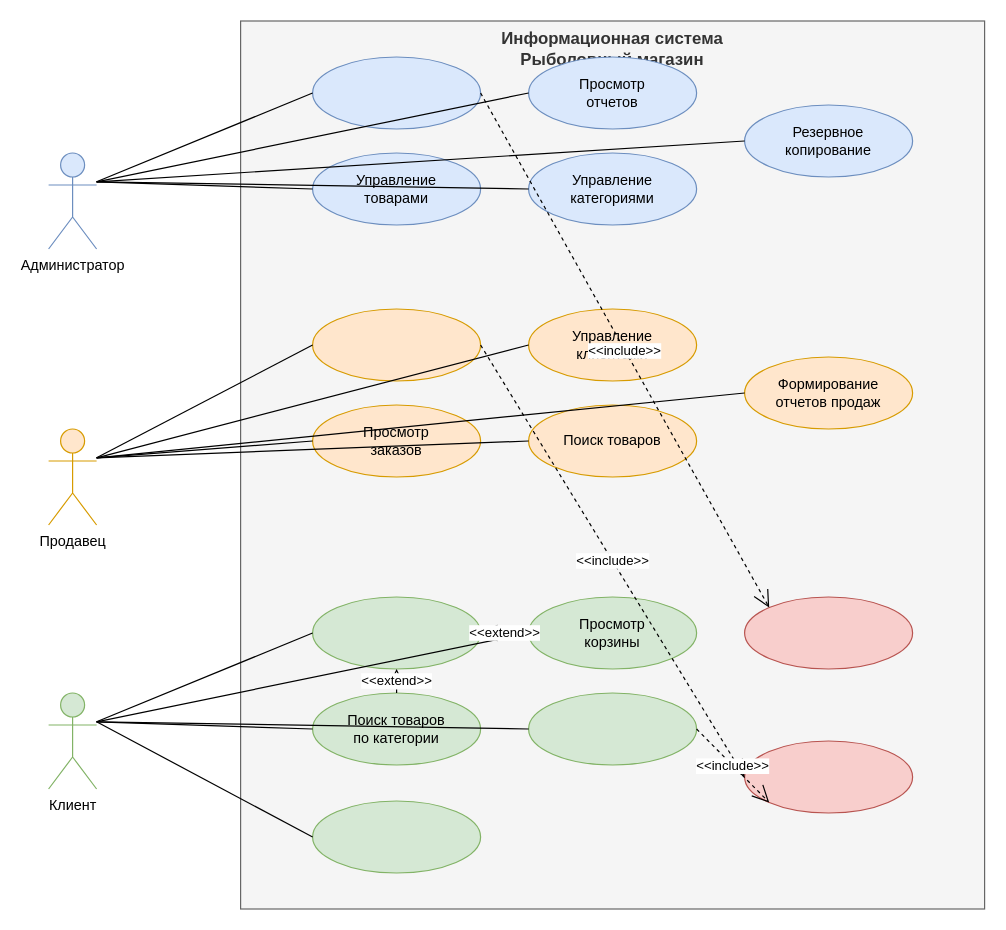
Image size: 1006x930. Some labels were removed from this diagram. The shapes that lost their labels are listed below. From the top down, each one's centre as x and y in pixels, then its label:
(x=396, y=92): Управление пользователями
(x=396, y=344): Оформление заказа
(x=396, y=632): Просмотр каталога
(x=828, y=632): Авторизация
(x=612, y=728): Создание заказа
(x=828, y=776): Валидация данных
(x=396, y=836): Просмотр истории заказов
